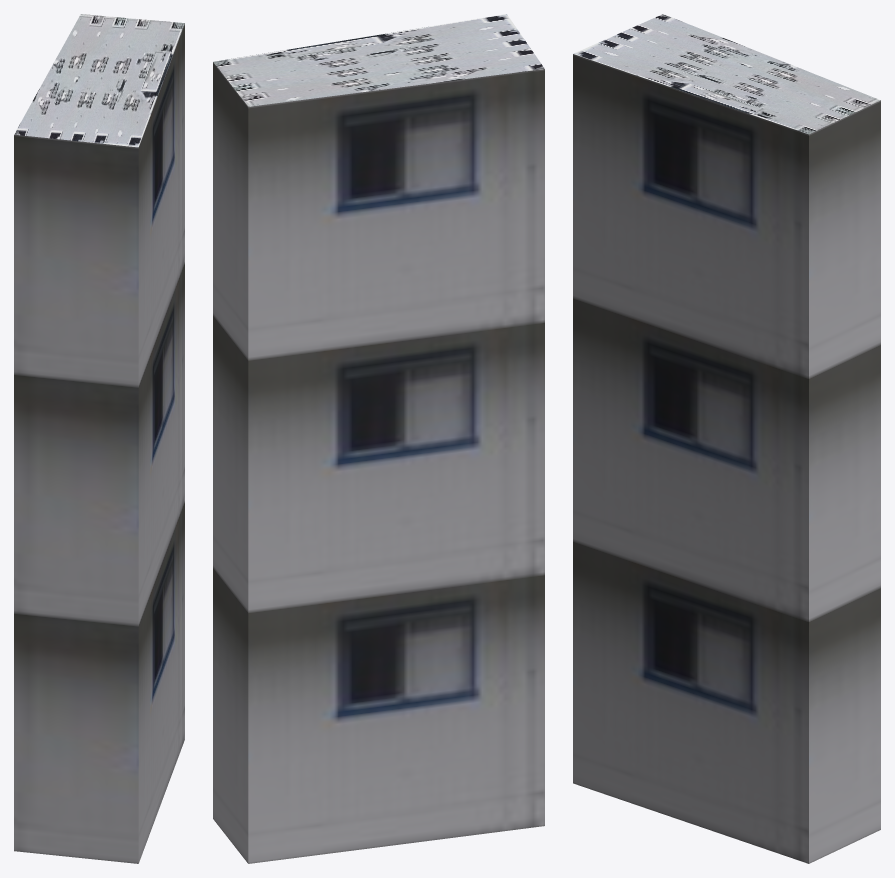
File: ResTex__218.fbx
3 views of the same model, side by side, from view 1: azimuth 30°, elevation 25°; view 2: azimuth 150°, elevation 25°; view 3: azimuth 270°, elevation 25° (orthographic). The views are drawn at different scales.
Parts seen in each view (by area): view 1: CityEngineMaterial_9_m, CityEngineMaterial_8_m; view 2: CityEngineMaterial_9_m, CityEngineMaterial_8_m; view 3: CityEngineMaterial_9_m, CityEngineMaterial_8_m.
Part boxes in pixels (x1=…): CityEngineMaterial_9_m: x1=14, y1=23, x2=184, y2=863; CityEngineMaterial_8_m: x1=14, y1=14, x2=184, y2=147; CityEngineMaterial_9_m: x1=213, y1=62, x2=544, y2=863; CityEngineMaterial_8_m: x1=213, y1=14, x2=544, y2=106; CityEngineMaterial_9_m: x1=573, y1=54, x2=880, y2=863; CityEngineMaterial_8_m: x1=573, y1=14, x2=880, y2=134.
Size of the model in its own units: 3.19 by 9 by 3.44.
2 materials, 2 textured.
